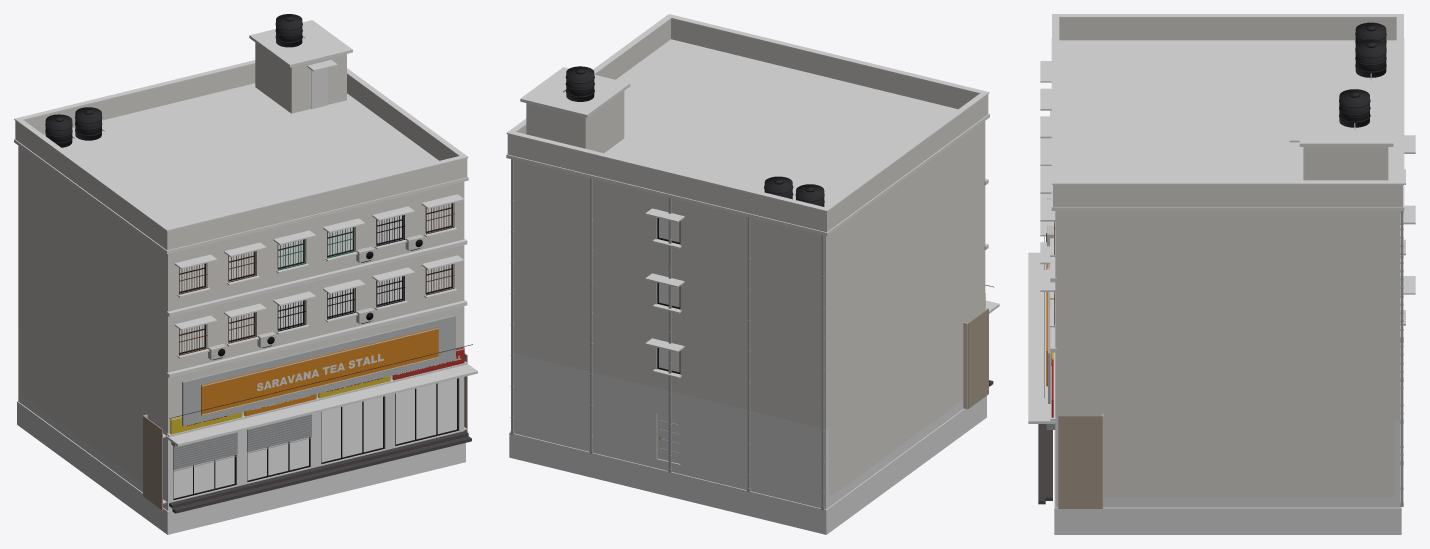
File: commercial_16x14_4.glb
The picture shows the model from 3 angles, left to right: view 1: azimuth 30°, elevation 25°; view 2: azimuth 150°, elevation 25°; view 3: azimuth 270°, elevation 25°; orthographic projection. The views are drawn at different scales.
Visible parts, largest first — view 1: commercial_16x14_4; view 2: commercial_16x14_4; view 3: commercial_16x14_4.
Boxes of the visible parts, box(x1,y1,x2,y2) form: commercial_16x14_4: box(14, 14, 477, 534); commercial_16x14_4: box(506, 14, 999, 534); commercial_16x14_4: box(1028, 14, 1415, 534).
Bounding box in the file's own units: 16.5 × 18.6 × 15.71.
